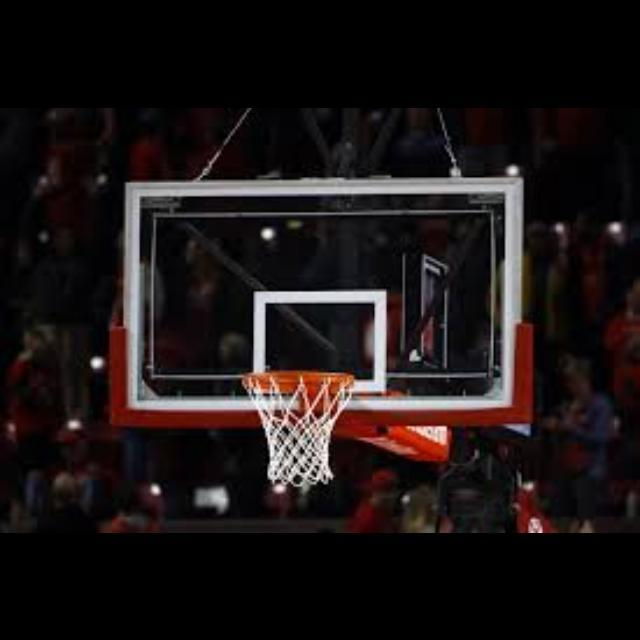rim: (242, 372, 352, 486)
